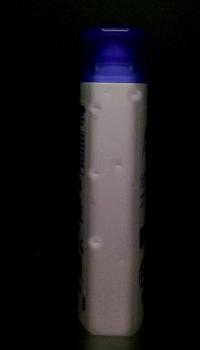dent_marginal: (128, 84, 144, 110), (108, 155, 129, 174), (88, 166, 102, 188), (88, 102, 104, 119)
